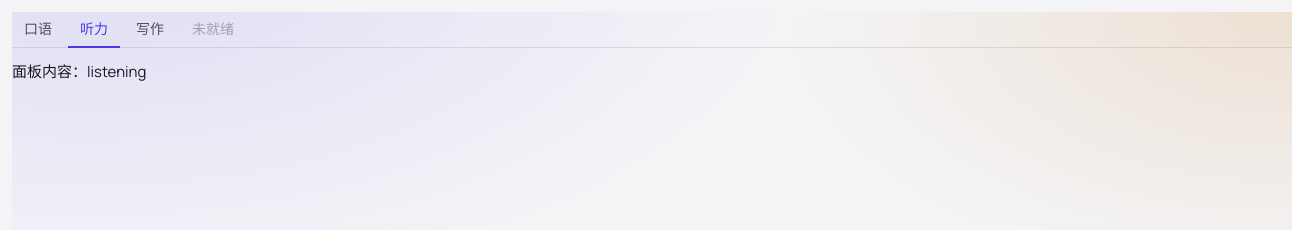
Test: Tabs › 点击切换选中项
Click the tab "写作".
click(150, 30)  # box x1=124 y1=12 x2=176 y2=48
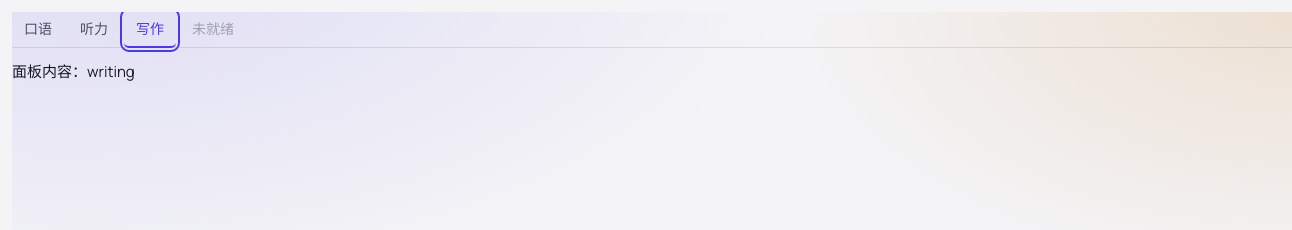
Now the panel shows "writing", box x1=87 y1=61 x2=135 y2=82
